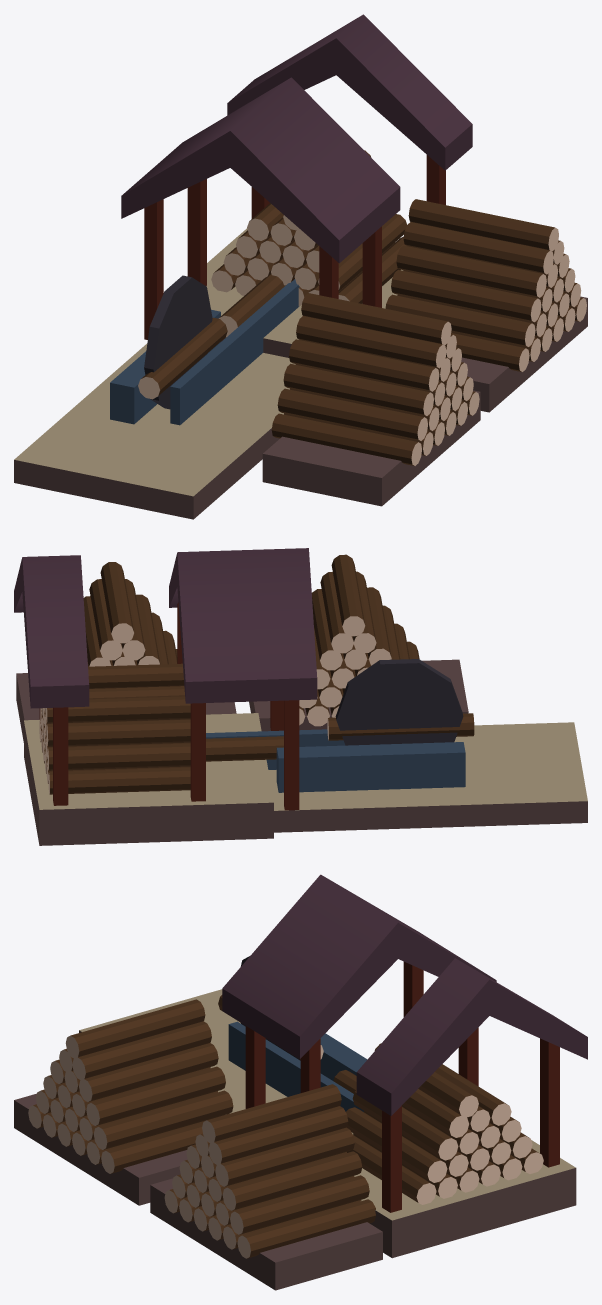
The model's file is Resource_Wood_002.fbx.
3 renders of one model, top to bottom at view 1: azimuth 30°, elevation 25°; view 2: azimuth 150°, elevation 25°; view 3: azimuth 270°, elevation 25°, orthographic. The views are drawn at different scales.
Parts seen in each view (by area): view 1: Resource_Wood_002; view 2: Resource_Wood_002; view 3: Resource_Wood_002.
Boxes of the visible parts, x1,y1,x2,y2 form: Resource_Wood_002: [14, 14, 587, 519]; Resource_Wood_002: [14, 548, 587, 845]; Resource_Wood_002: [14, 874, 587, 1290].
Bounding box in the file's own units: 911 × 383 × 779.
